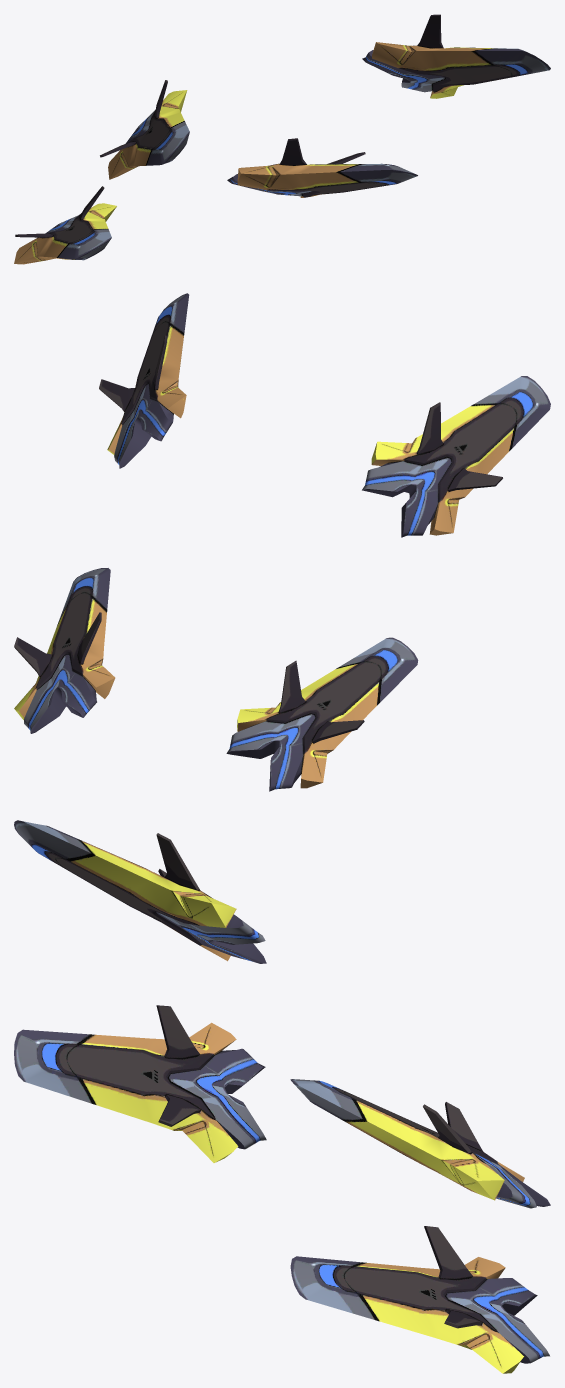
The model's file is Avatar_Kallen_MC_Branch_04_01_Funnel_Layer_3.fbx.
3 renders of one model, top to bottom at view 1: azimuth 30°, elevation 25°; view 2: azimuth 150°, elevation 25°; view 3: azimuth 270°, elevation 25°, orthographic. The views are drawn at different scales.
Parts seen in each view (by area): view 1: MC_Branch_McCannon_Funnel_1, MC_Branch_McCannon_Funnel_3, MC_Branch_McCannon_Funnel_2, MC_Branch_McCannon_Funnel_4; view 2: MC_Branch_McCannon_Funnel_2, MC_Branch_McCannon_Funnel_4, MC_Branch_McCannon_Funnel_3, MC_Branch_McCannon_Funnel_1; view 3: MC_Branch_McCannon_Funnel_1, MC_Branch_McCannon_Funnel_3, MC_Branch_McCannon_Funnel_2, MC_Branch_McCannon_Funnel_4.
Part boxes in pixels (x1,y1,x2,y2): MC_Branch_McCannon_Funnel_1: [362, 14, 550, 98]; MC_Branch_McCannon_Funnel_3: [227, 138, 417, 197]; MC_Branch_McCannon_Funnel_2: [100, 80, 189, 179]; MC_Branch_McCannon_Funnel_4: [14, 186, 116, 264]; MC_Branch_McCannon_Funnel_2: [362, 376, 550, 537]; MC_Branch_McCannon_Funnel_4: [226, 637, 418, 791]; MC_Branch_McCannon_Funnel_3: [14, 568, 115, 733]; MC_Branch_McCannon_Funnel_1: [99, 293, 189, 468]; MC_Branch_McCannon_Funnel_1: [14, 1005, 266, 1162]; MC_Branch_McCannon_Funnel_3: [290, 1226, 549, 1373]; MC_Branch_McCannon_Funnel_2: [14, 820, 266, 963]; MC_Branch_McCannon_Funnel_4: [290, 1079, 550, 1208].
Bounding box in the file's own units: 1.23 × 0.8367 × 1.11.
Materials: 1 (1 with a texture image).
